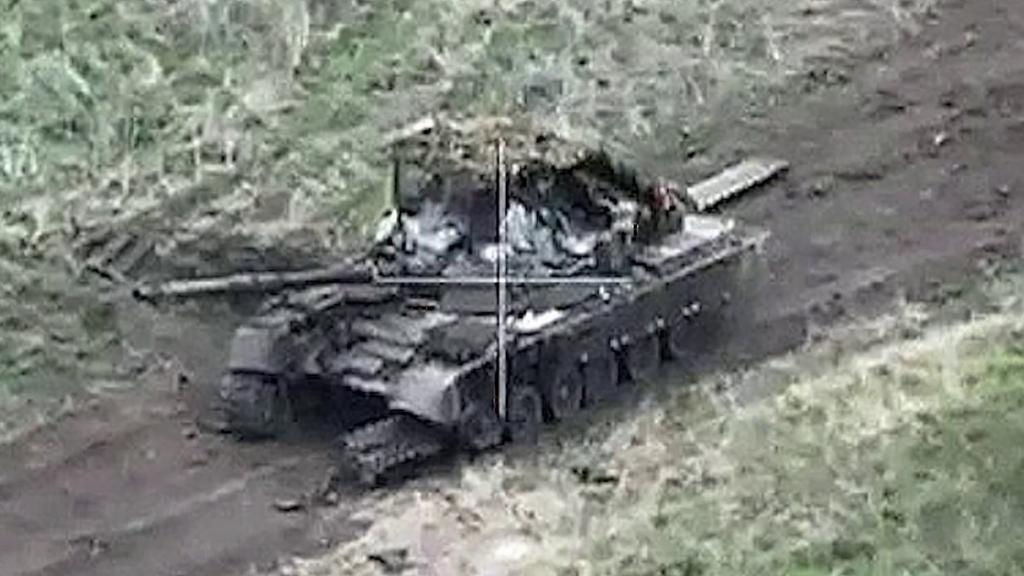TANK: (115, 124, 745, 473)
